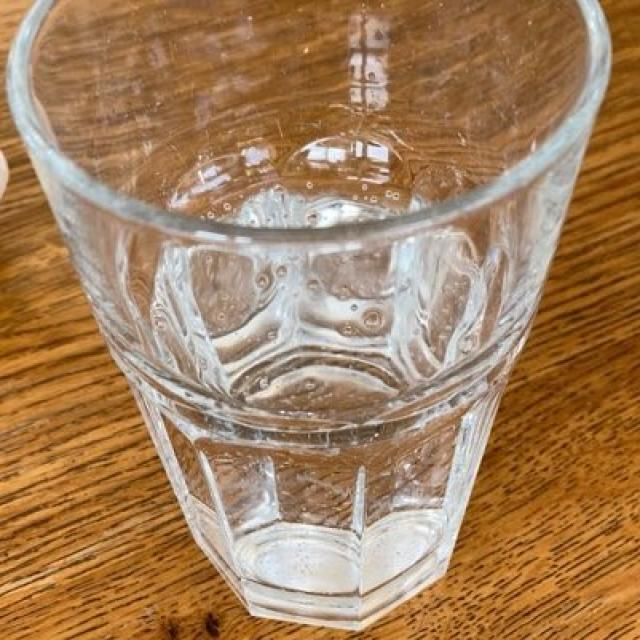water-mineral: (109, 160, 512, 617)
